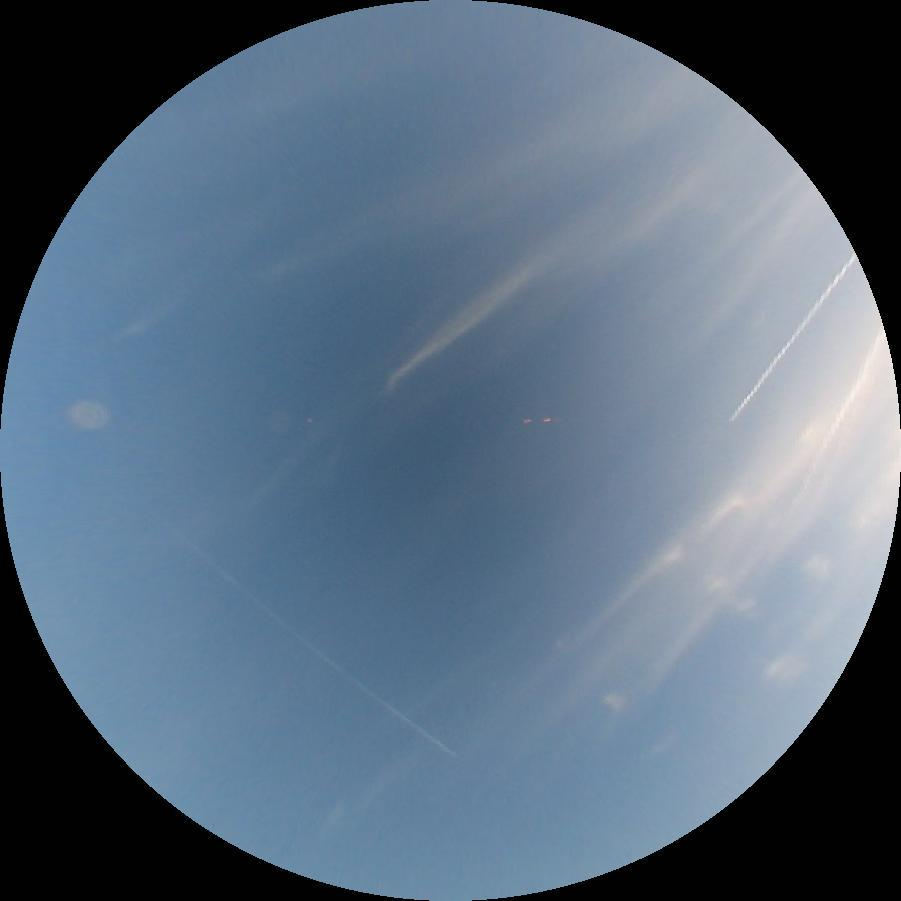contrail young: (165, 522, 463, 772), (725, 249, 860, 425)
